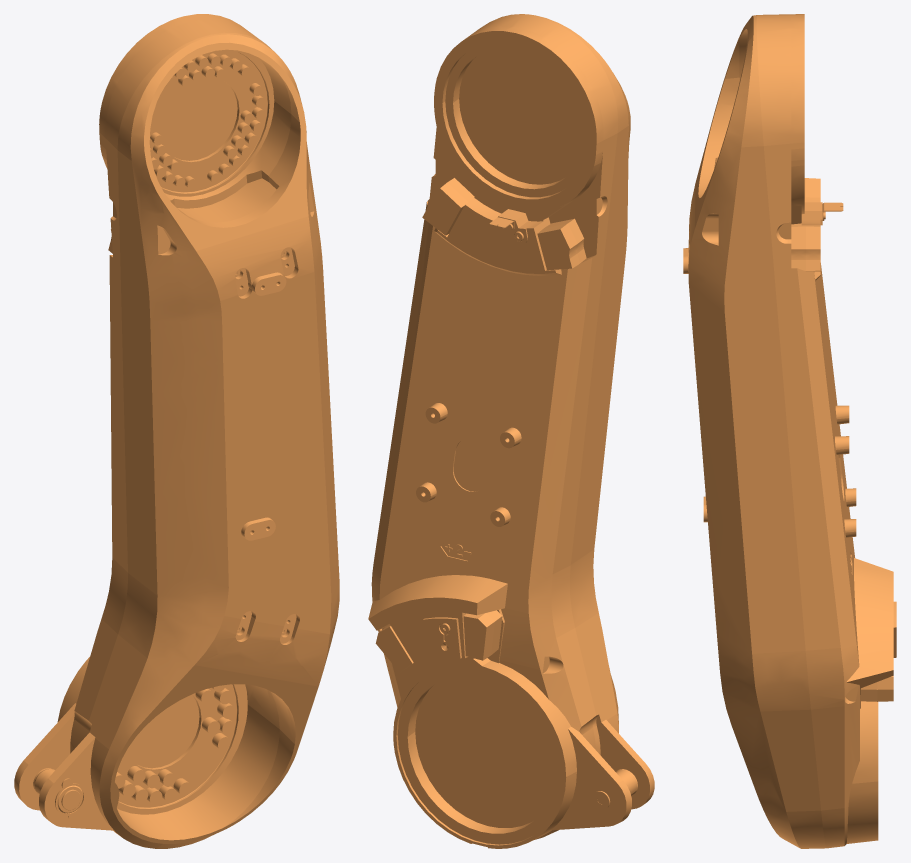
3 renders of one model, left to right at view 1: azimuth 30°, elevation 25°; view 2: azimuth 150°, elevation 25°; view 3: azimuth 270°, elevation 25°, orthographic. The views are drawn at different scales.
Visible parts, largest first — view 1: mesh_0; view 2: mesh_0; view 3: mesh_0.
Boxes of the visible parts, bbox=[...] form: mesh_0: bbox=[14, 14, 339, 848]; mesh_0: bbox=[368, 14, 654, 848]; mesh_0: bbox=[683, 14, 896, 848].
Size of the model in its own units: 0.5308 by 1.53 by 0.3625.
